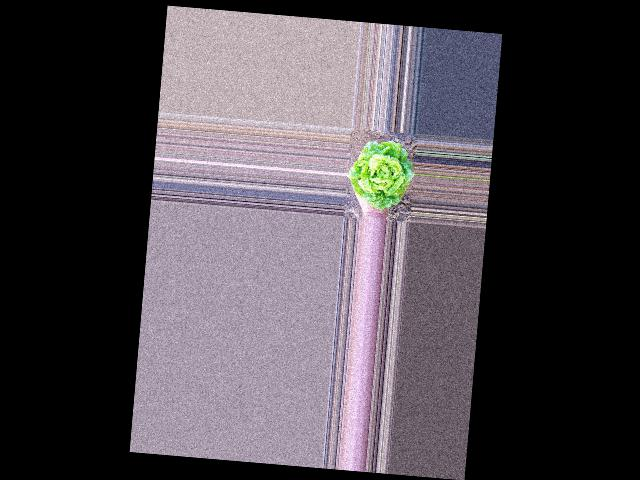lettuce: (348, 136, 415, 207)
